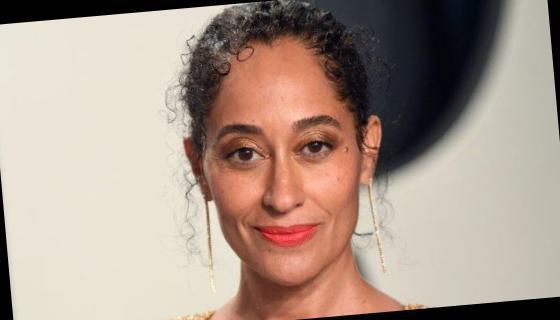Sober: (207, 62, 353, 272)
